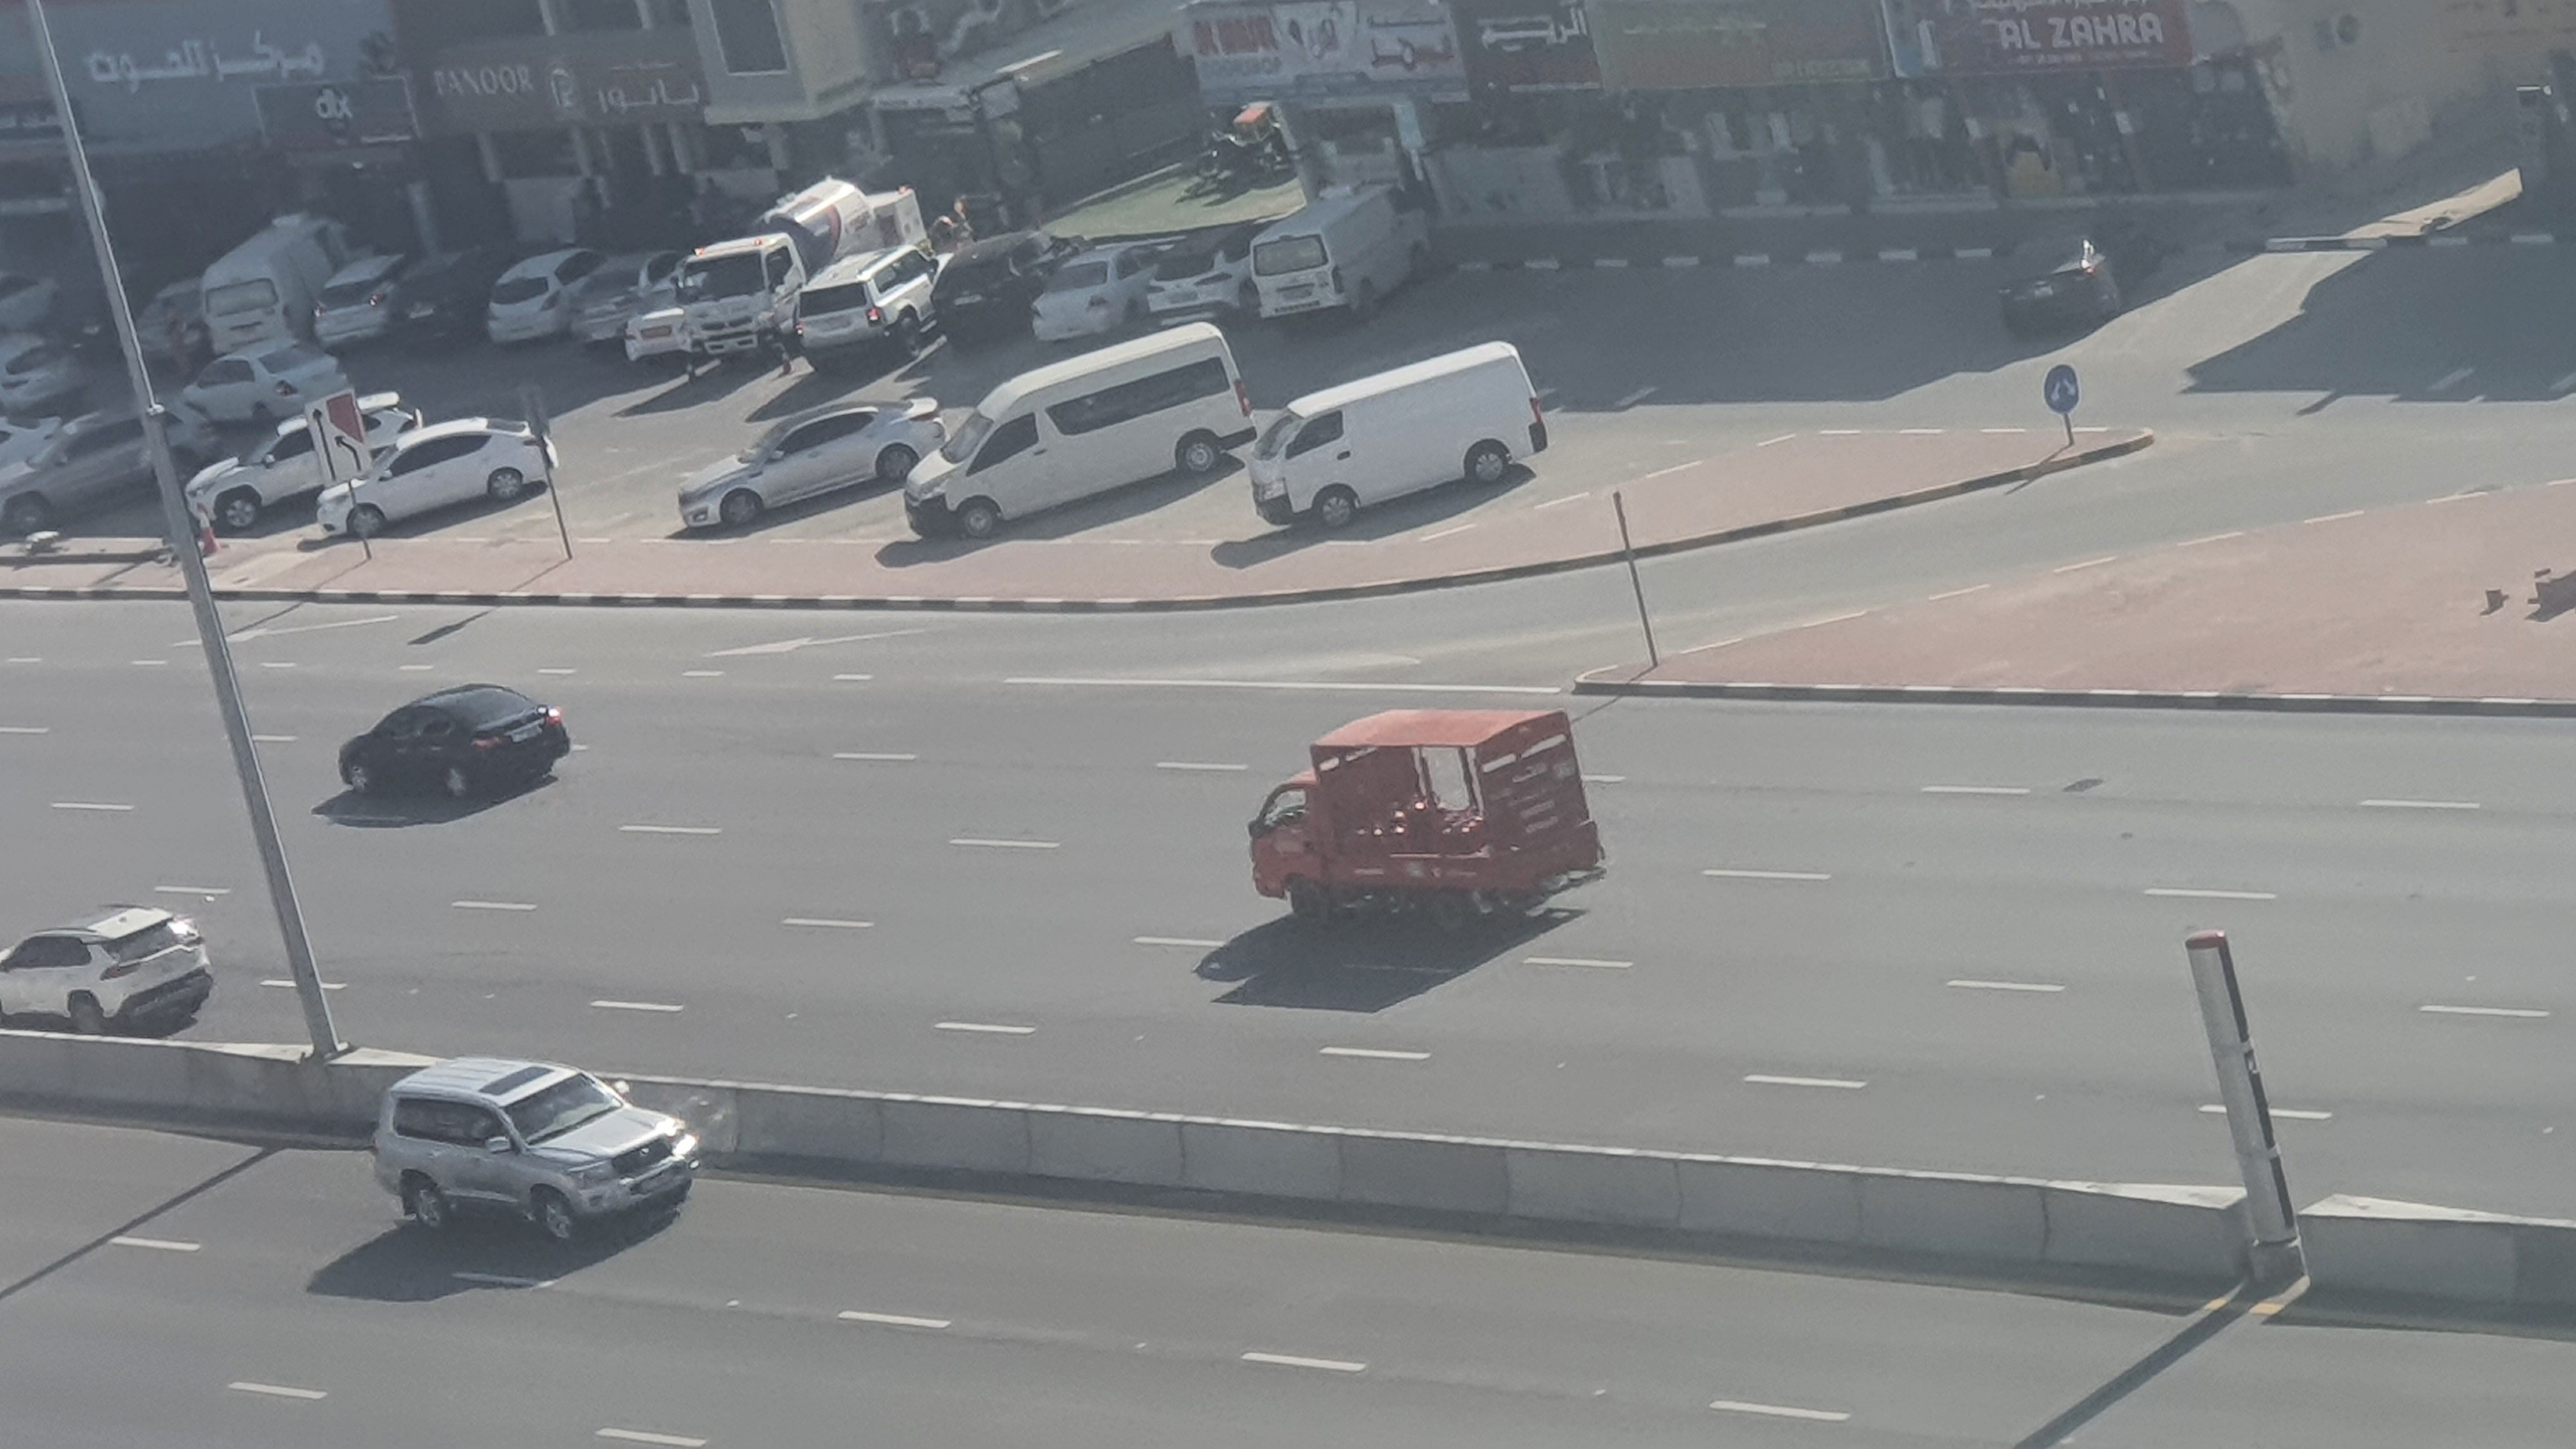Sunroof: (368, 1054, 708, 1249)
